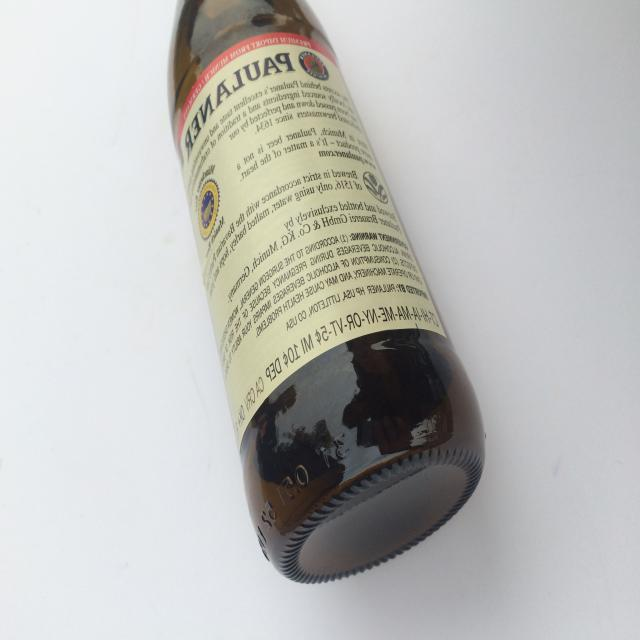glass: (168, 0, 487, 585)
